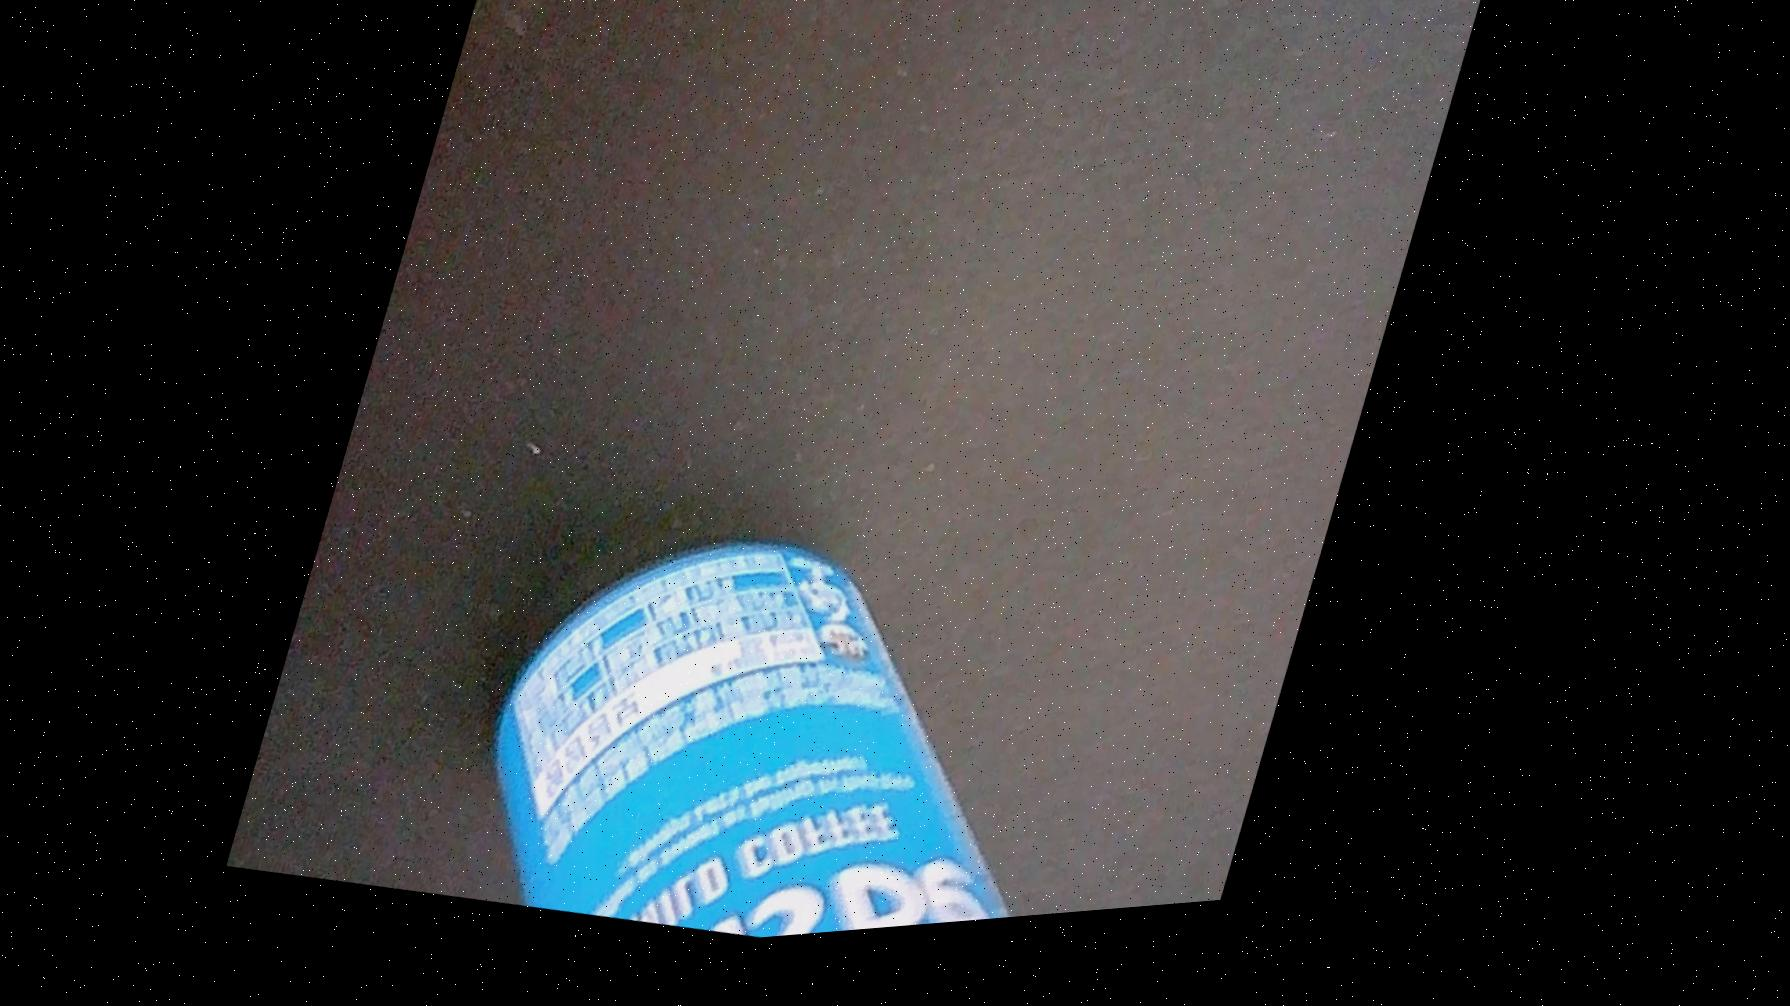letsbe: (456, 472, 1327, 973)
